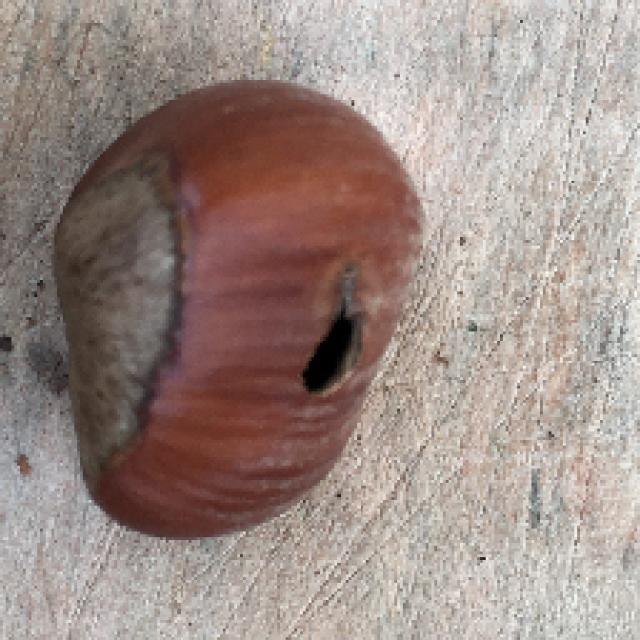damagedHazelnut: (57, 80, 428, 550)
